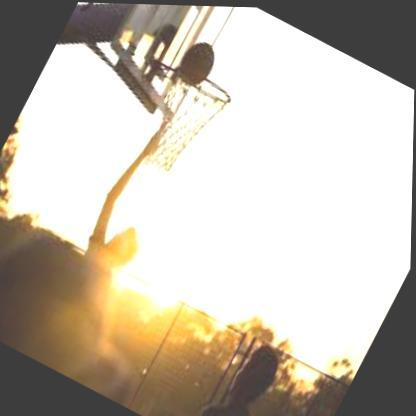basketball: (172, 35, 222, 93)
rim: (170, 59, 241, 111)
